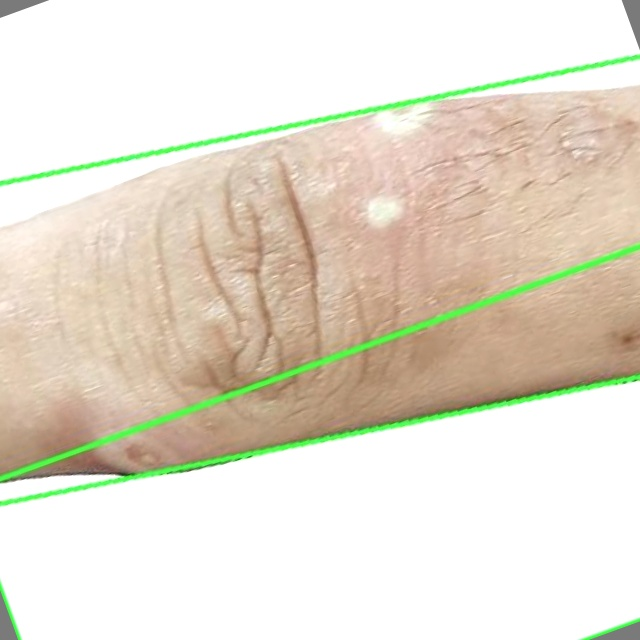Scabies: (0, 64, 639, 500), (0, 246, 639, 639)
